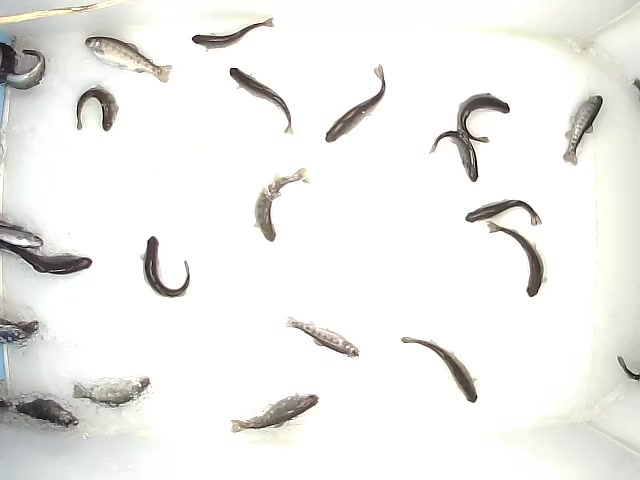fish: (399, 335, 480, 404), (323, 62, 387, 144), (484, 221, 549, 298), (252, 167, 313, 243), (228, 66, 295, 135), (83, 35, 174, 85), (229, 392, 320, 435), (285, 313, 362, 359), (138, 234, 191, 299), (190, 15, 276, 54), (560, 94, 605, 166), (1, 241, 94, 275), (455, 91, 512, 144), (429, 127, 479, 183), (71, 374, 151, 408), (1, 396, 81, 430), (465, 197, 543, 230), (75, 86, 121, 132), (5, 47, 47, 91), (1, 225, 44, 249)
